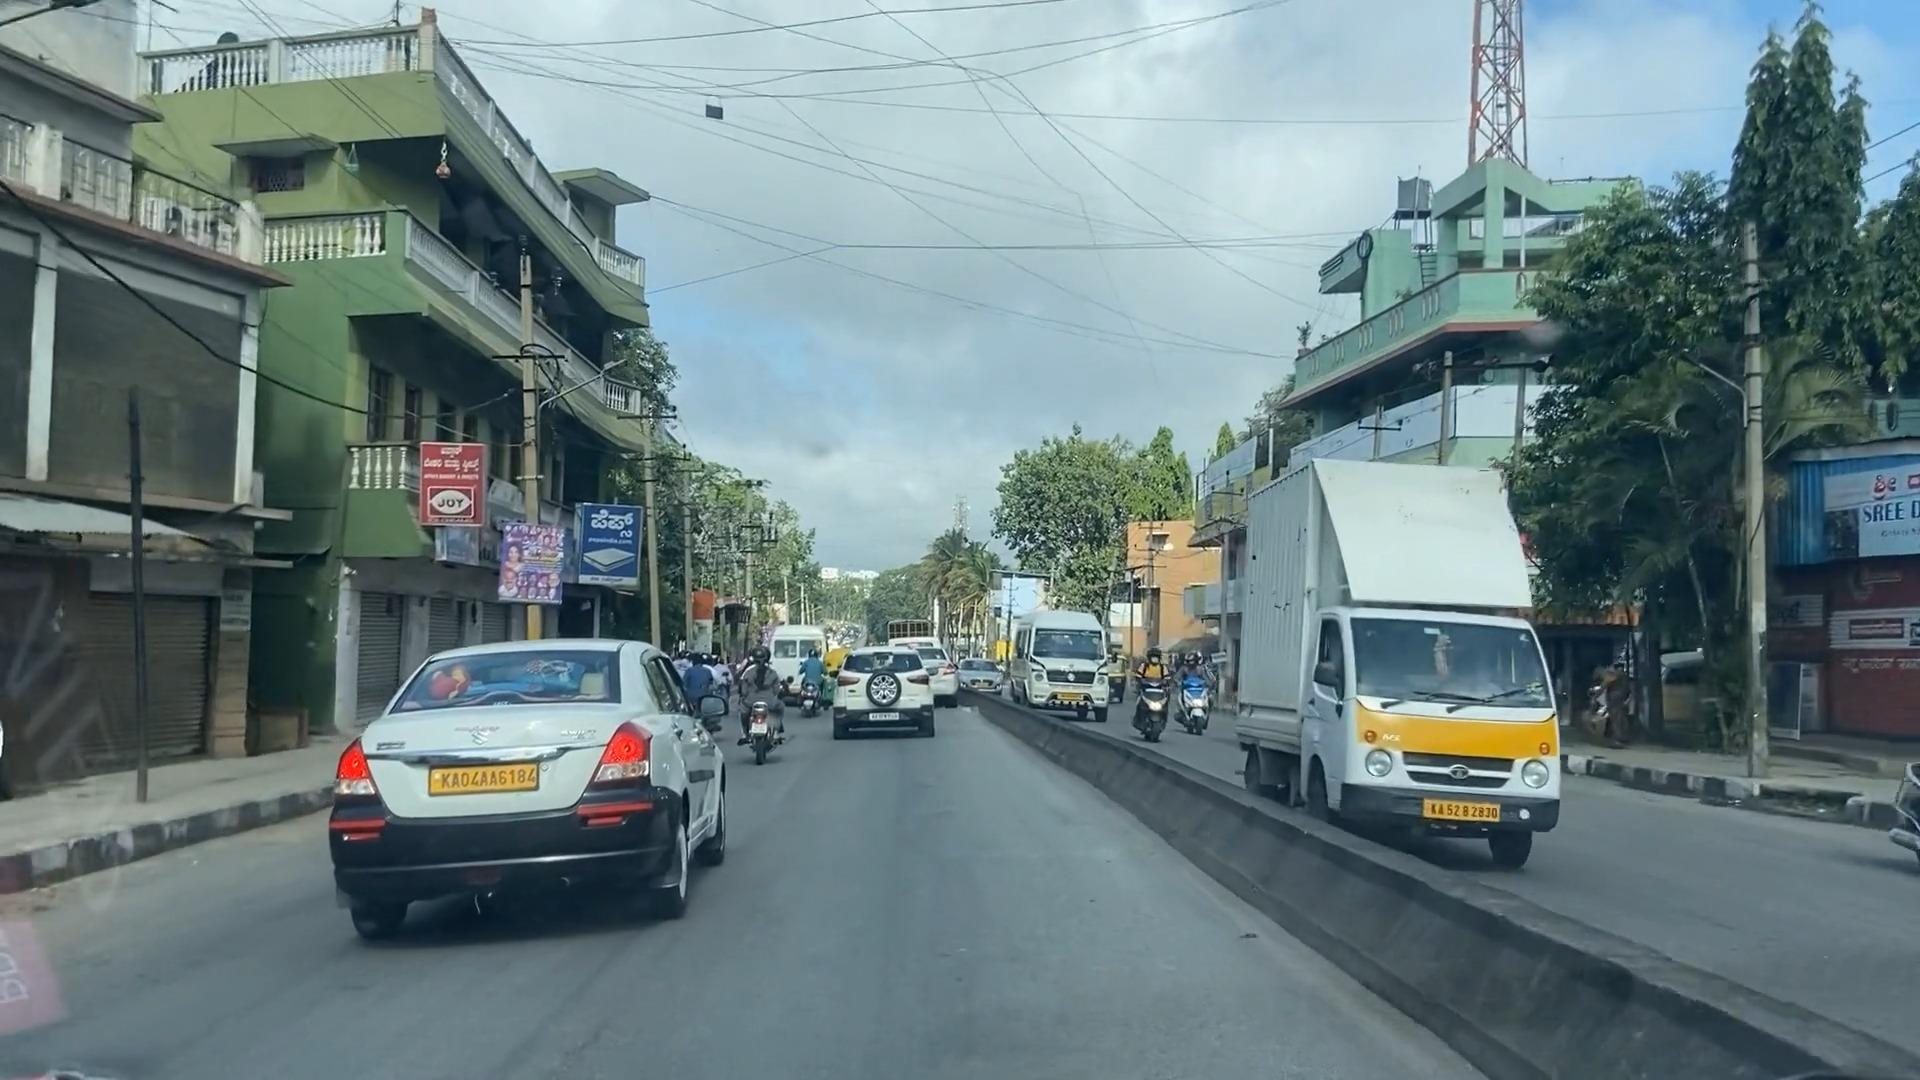LMV: (332, 651, 729, 927), (832, 650, 936, 738), (746, 645, 786, 766)
